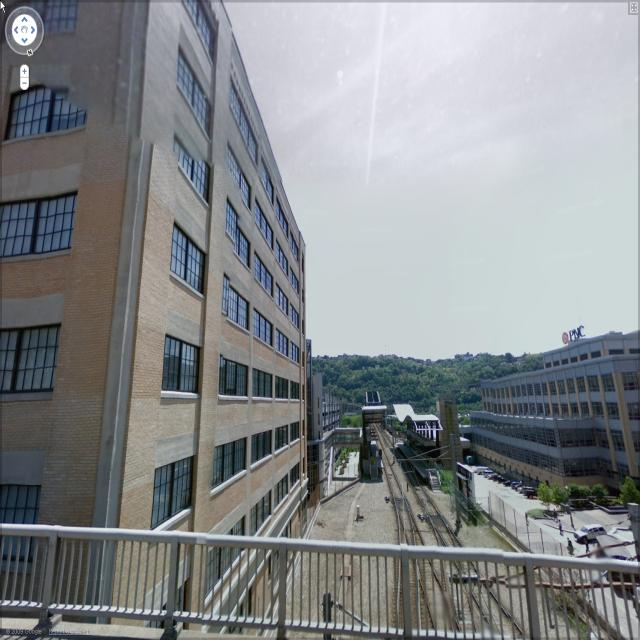b_1: (0, 1, 326, 500), (474, 343, 640, 498)
